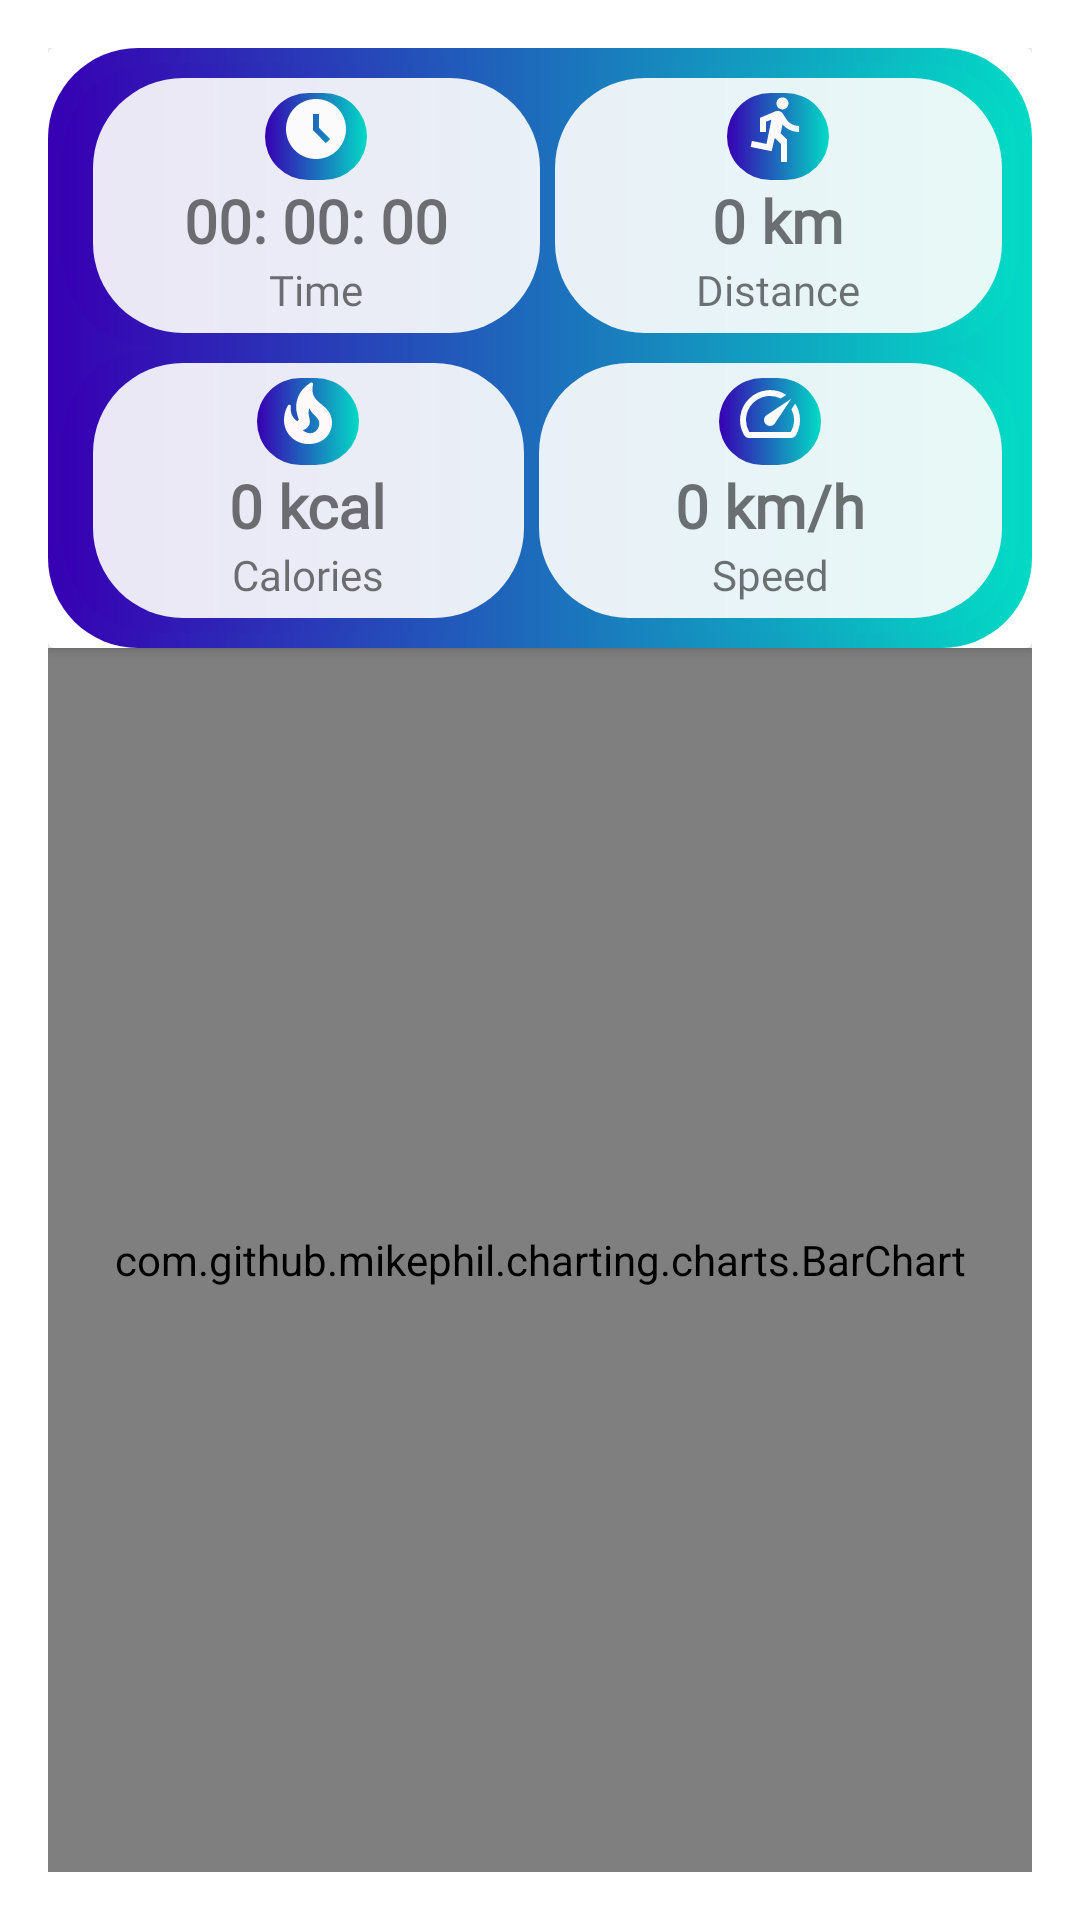

Named icons in this screenshot (1080 × 1920) and their bounding boxes, (x1, y1, x2, y2):
run: (727, 93, 829, 180)
